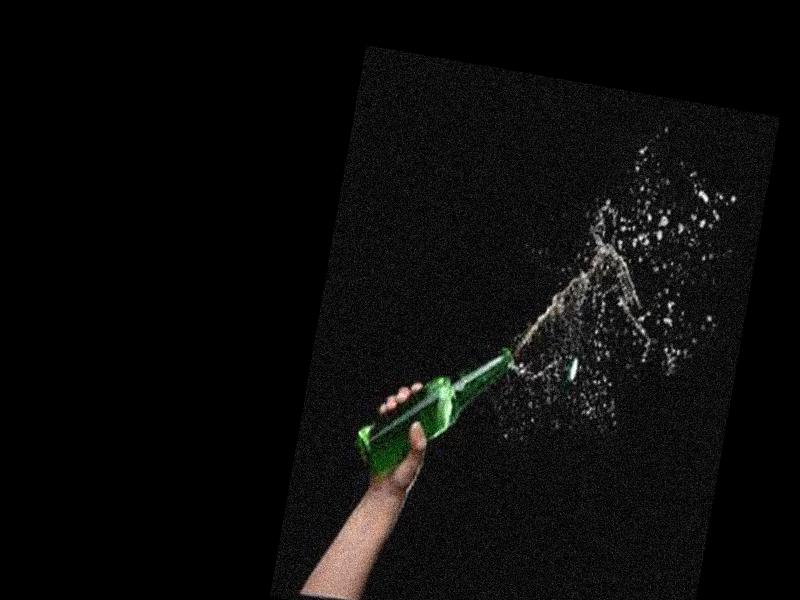Beer: (346, 327, 515, 501)
